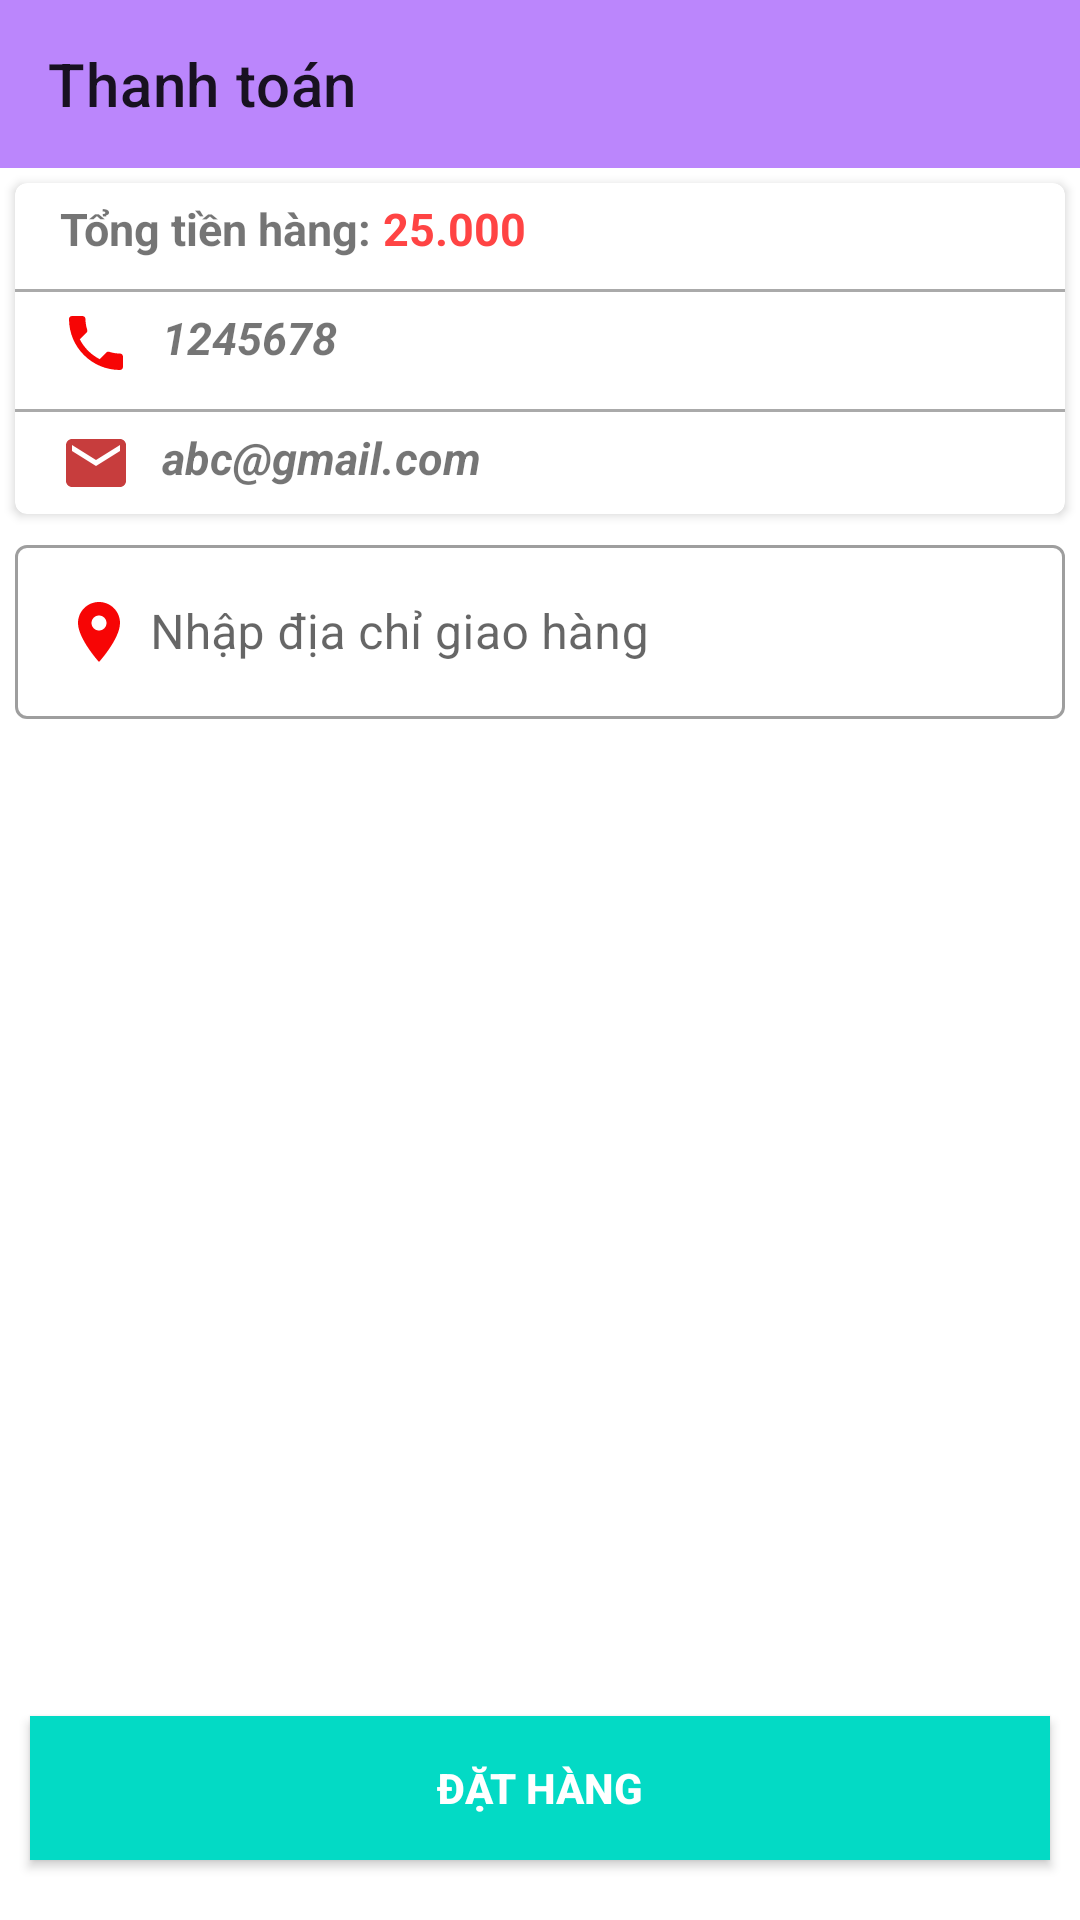

Icon click points for this 1080 x 1920 phone screenshot, format point (x, y):
email: point (96, 463)
phone: point (96, 343)
